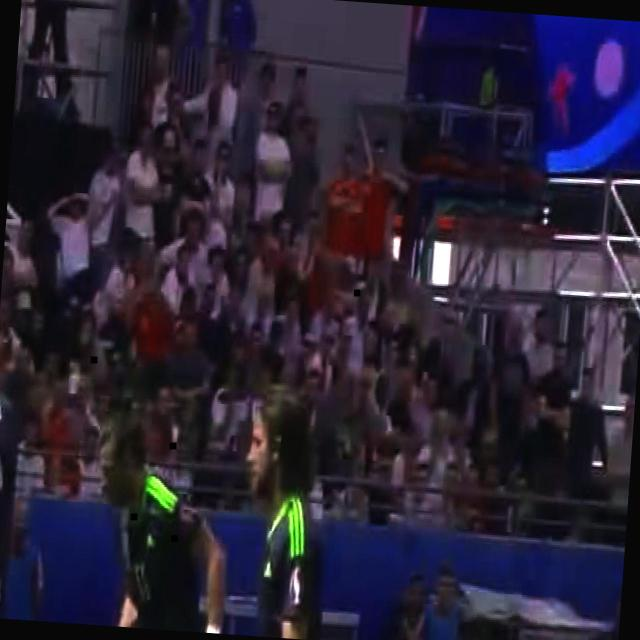player-white: (94, 411, 312, 639), (0, 272, 131, 626), (200, 367, 360, 640)
